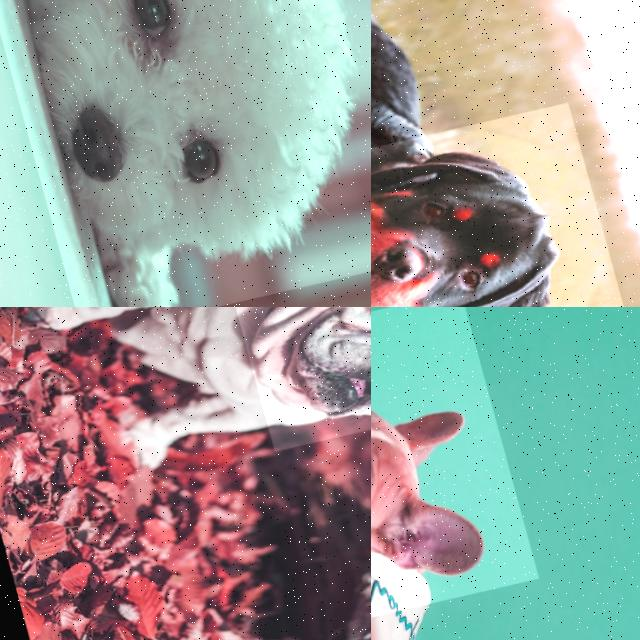bulldog: (371, 307, 538, 633), (224, 307, 371, 455)
poodle: (0, 0, 371, 307)
rottweiler: (371, 86, 630, 307)
